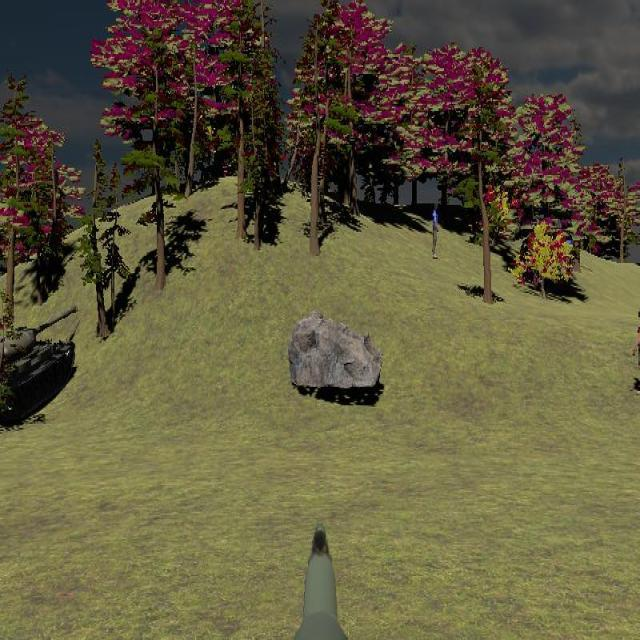Human: (633, 323, 640, 369)
Tank: (0, 303, 79, 425)
